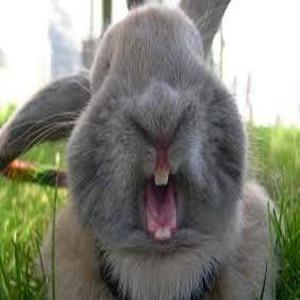rabbit: (68, 12, 259, 300)
